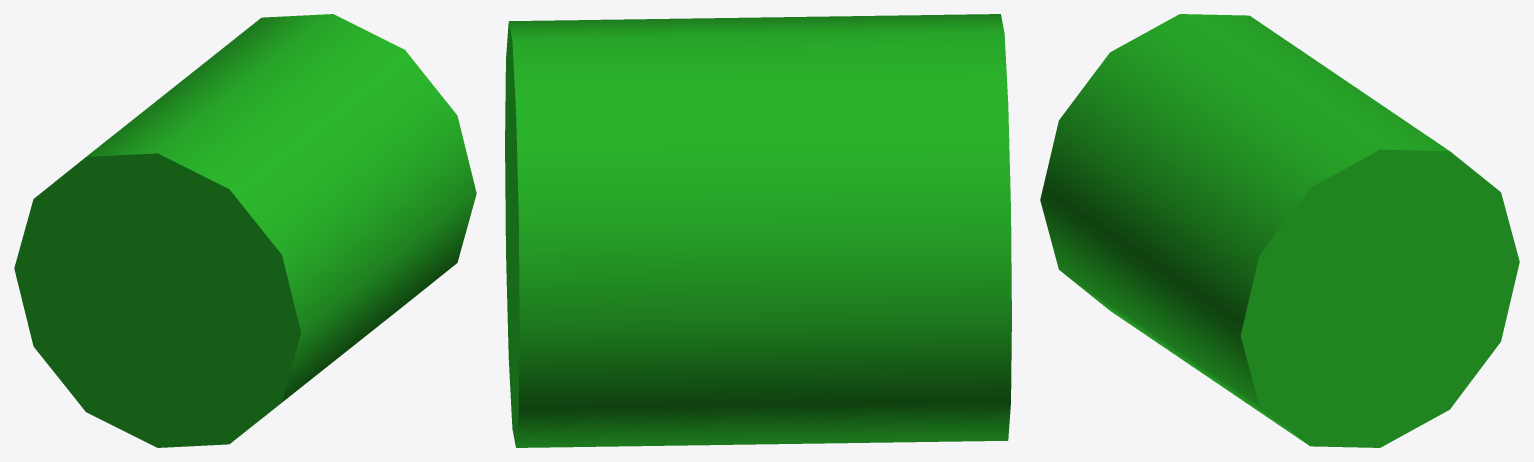
File: 0xbfb.fbx
3 renders of one model, left to right at view 1: azimuth 30°, elevation 25°; view 2: azimuth 150°, elevation 25°; view 3: azimuth 270°, elevation 25°, orthographic. The views are drawn at different scales.
Visible parts, largest first — view 1: _0xbfb; view 2: _0xbfb; view 3: _0xbfb.
Part boxes in pixels (box(x1,y1,x2,y2)): _0xbfb: box(14, 14, 476, 447); _0xbfb: box(505, 14, 1011, 447); _0xbfb: box(1040, 14, 1519, 447).
Bounding box in the file's own units: 6.38 × 4.24 × 6.18.
